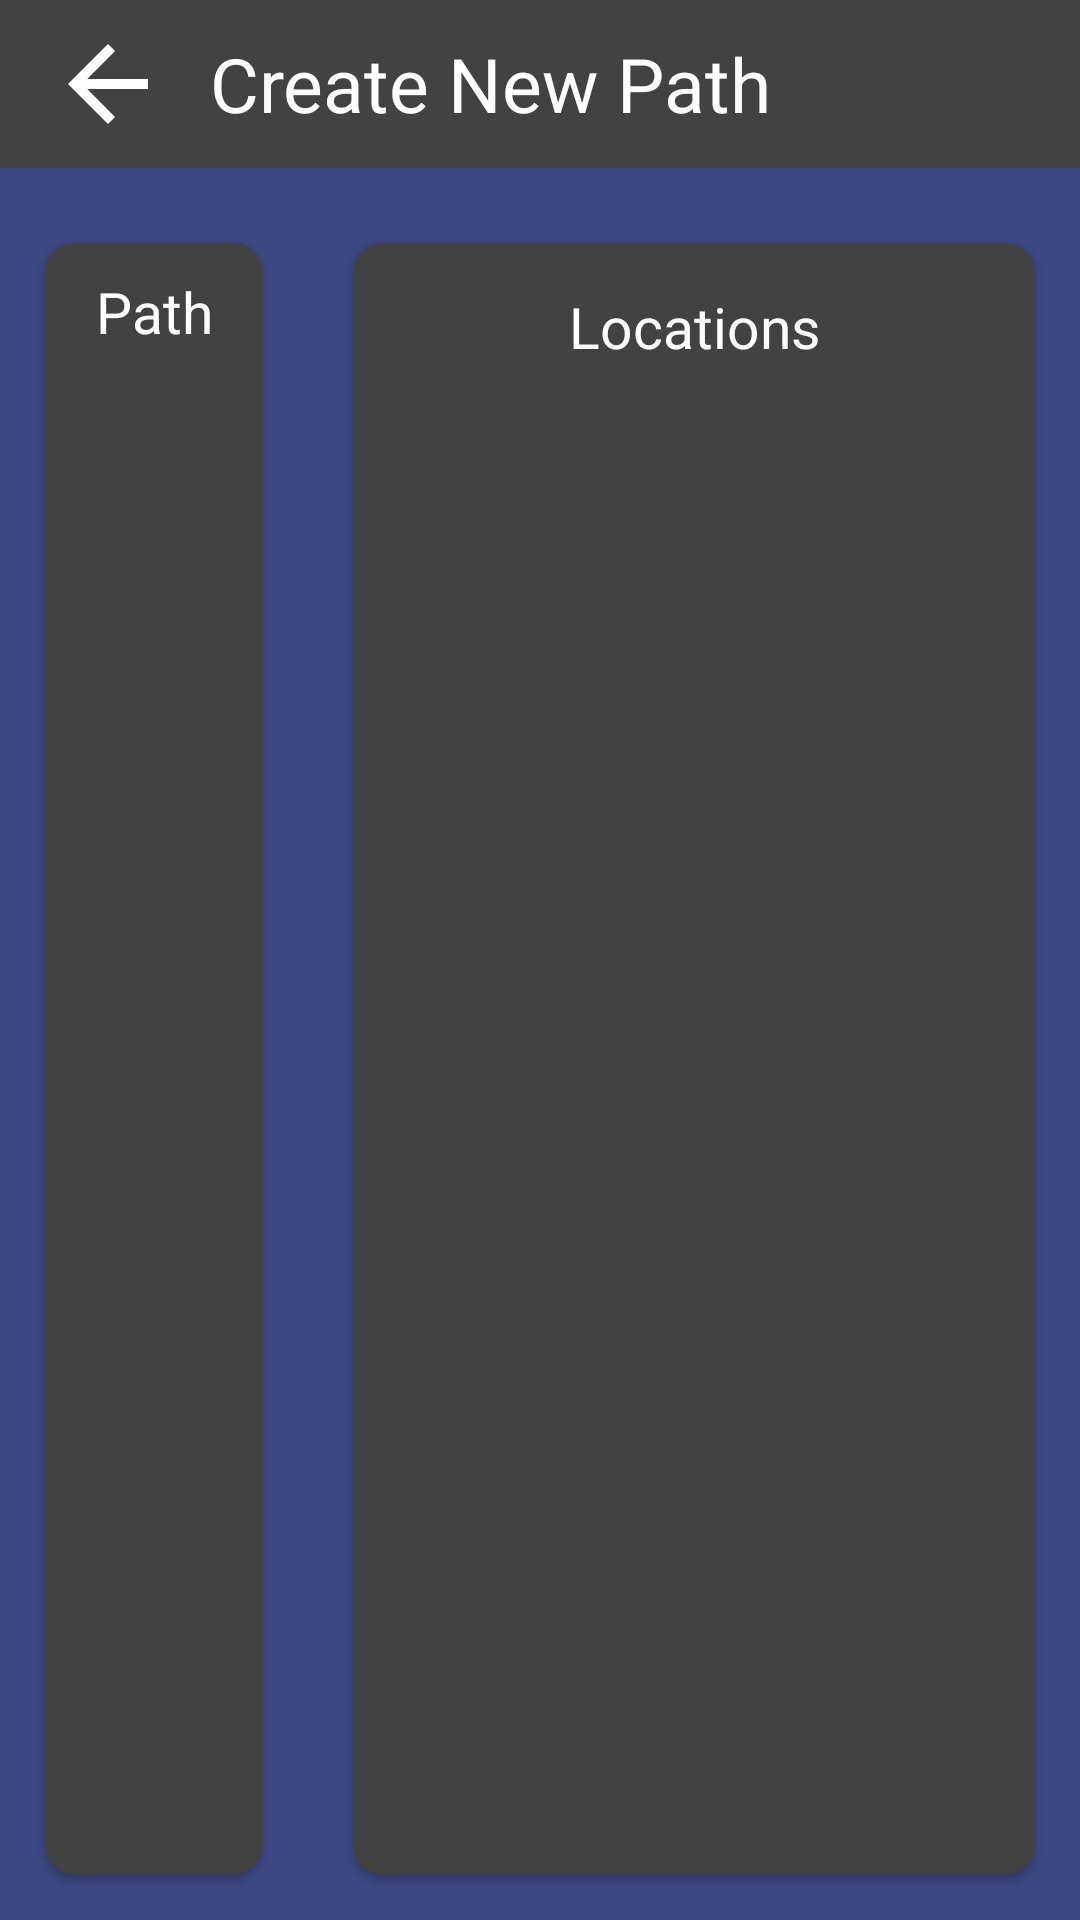

Icons on this 1080px×1920px Android screen, each with its box as (x1, y1, x2, y2):
arrow: (68, 44, 148, 124)
